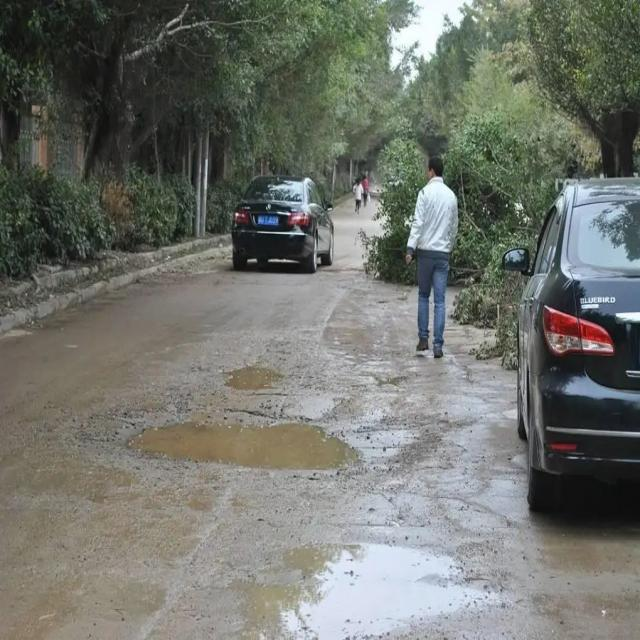Pothole: (126, 418, 363, 473), (222, 365, 284, 392)
